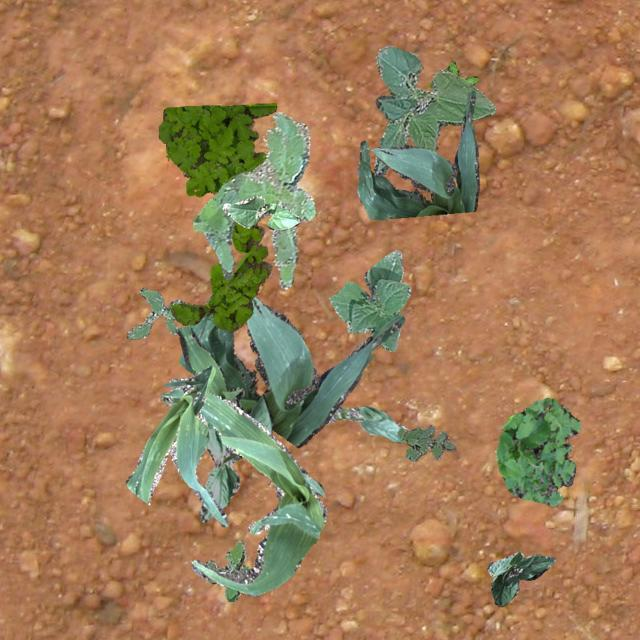crop: (178, 270, 404, 447), (158, 388, 326, 594), (175, 324, 323, 494), (125, 364, 228, 526), (372, 44, 494, 174), (356, 90, 478, 218), (198, 394, 272, 522), (328, 248, 411, 350), (297, 392, 408, 442), (486, 552, 554, 606), (222, 194, 300, 230)
weed: (157, 102, 276, 330), (192, 110, 314, 288), (496, 396, 580, 504), (125, 286, 183, 338), (202, 540, 248, 600), (396, 424, 454, 461), (442, 60, 477, 84)
